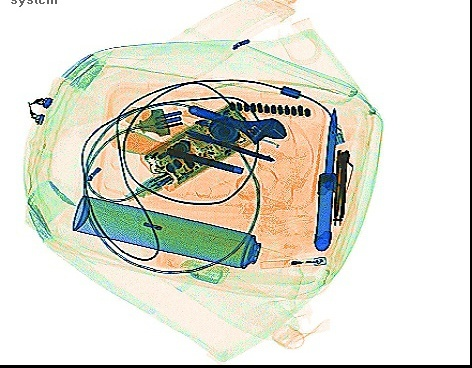knife: (312, 104, 342, 253), (328, 145, 353, 227)
lighter: (258, 251, 328, 269)
pressure: (70, 193, 269, 268)
